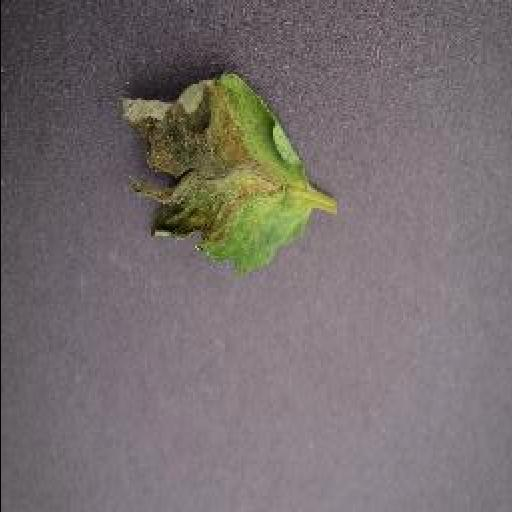disease_tomato: (118, 72, 314, 270)
